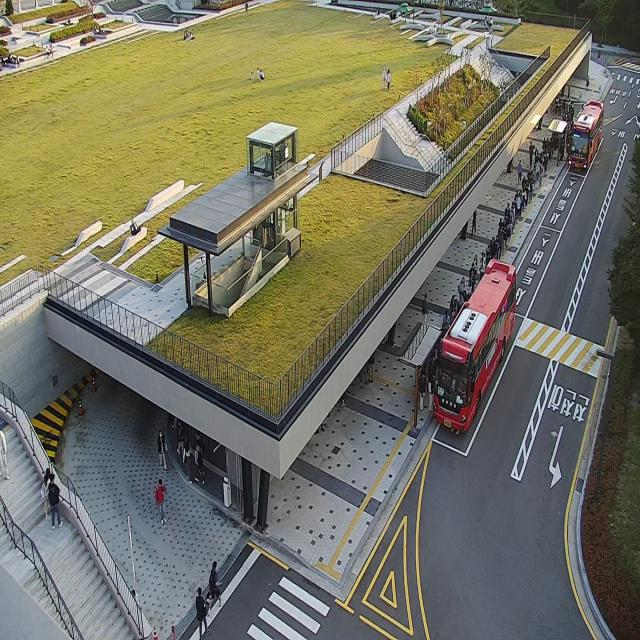queue: (414, 94, 576, 427)
